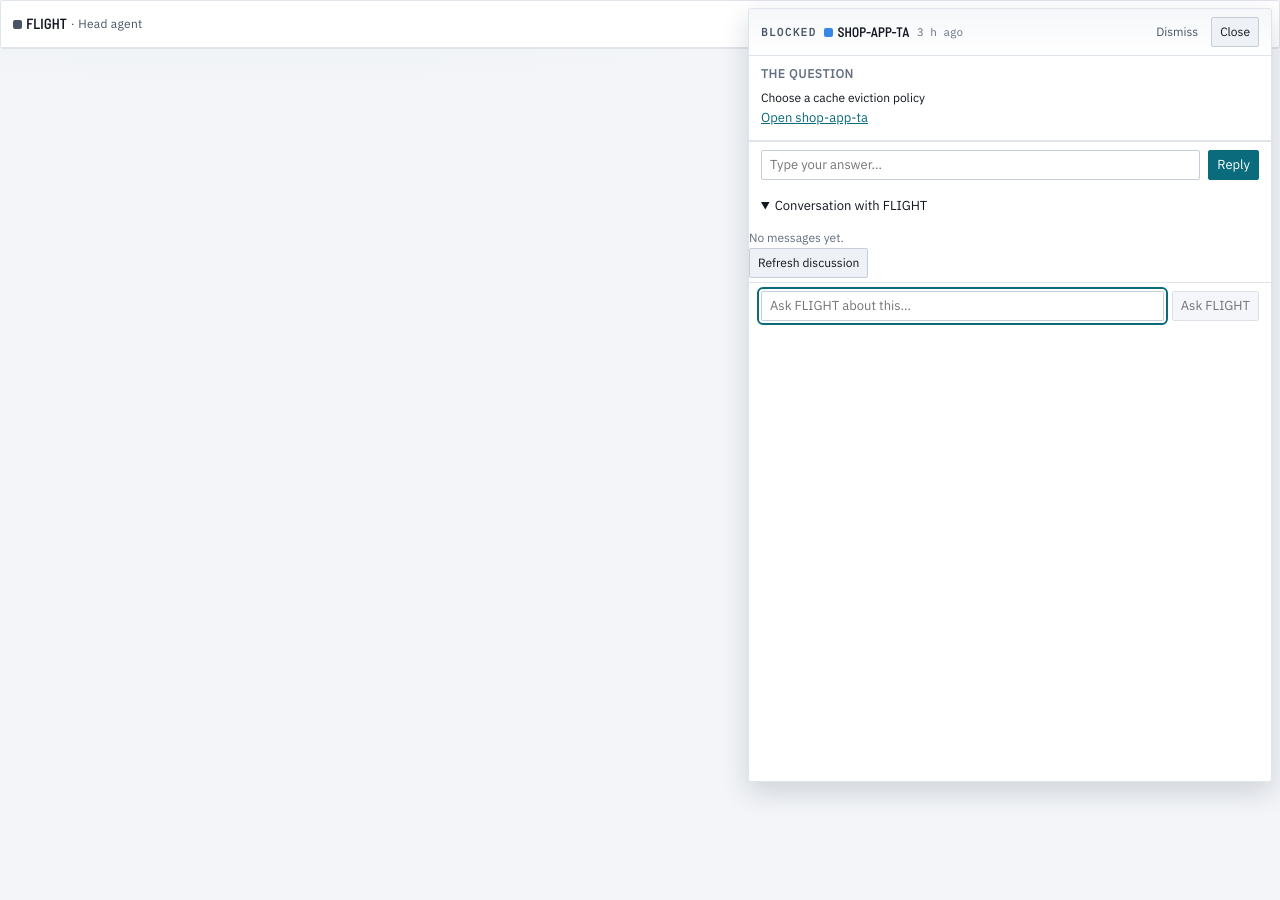
Test: ItemPanel, acting on an item › Dismiss posts the dismiss route, refreshes the list and closes the panel
Click the button "Dismiss".
click(1177, 32)  # box top-left (1147, 17), bottom-right (1207, 47)
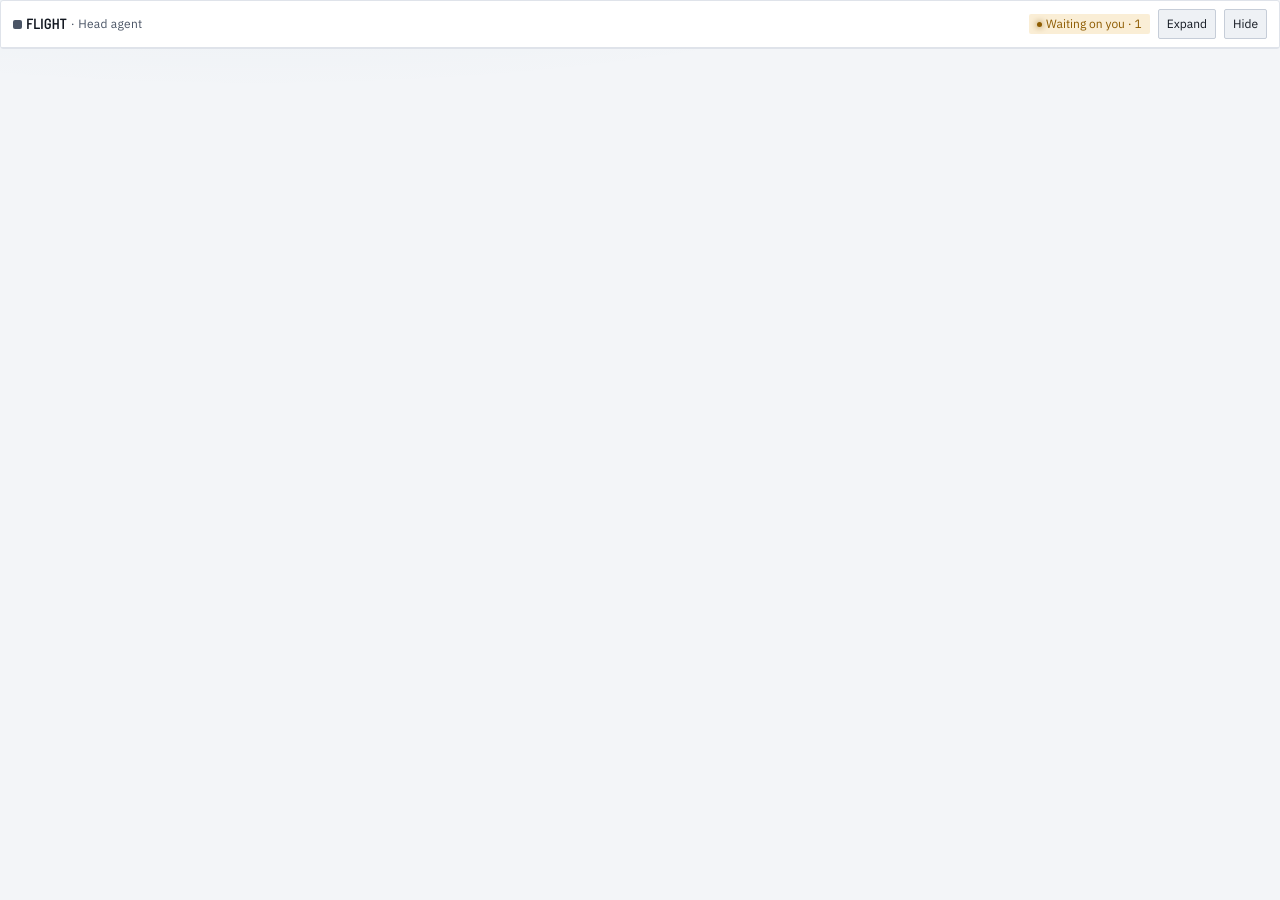
Expected: the element with id "discuss" is gone
